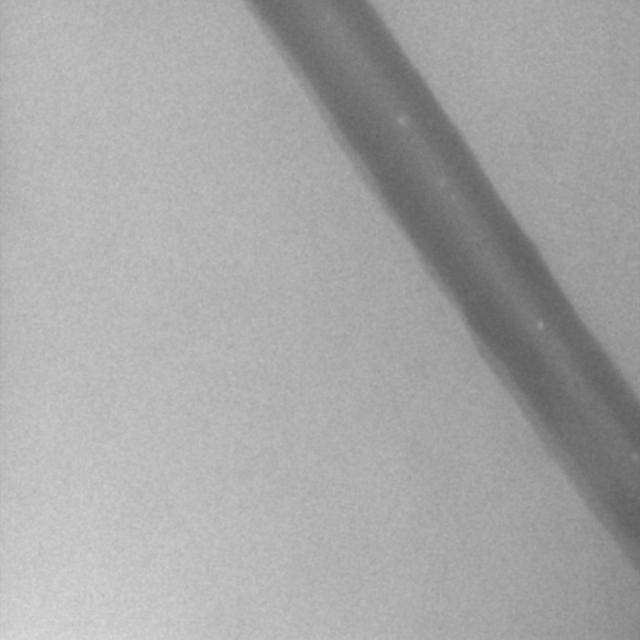air hole: (532, 316, 545, 332), (395, 110, 407, 125)
